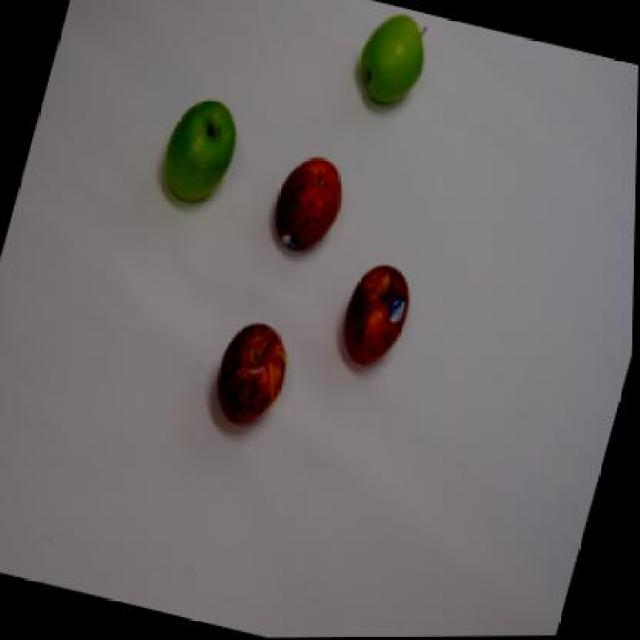Fresh Apple: (162, 97, 238, 203), (355, 23, 420, 109)
Rotten: (190, 319, 292, 443), (352, 274, 410, 375)
